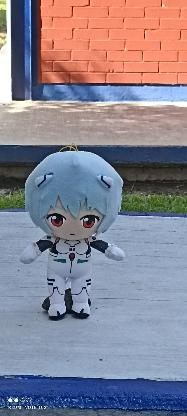rei-plush: (10, 146, 139, 328)
